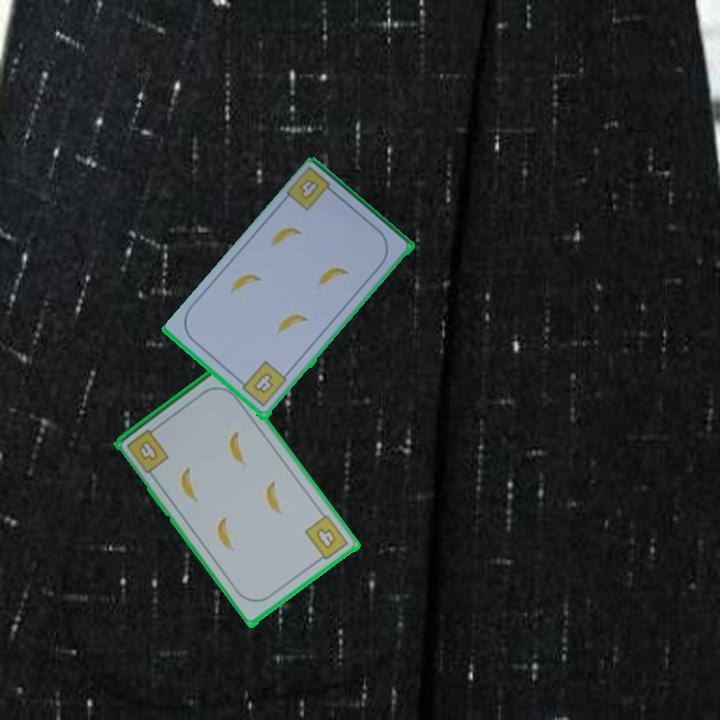4b: (235, 358, 290, 410), (284, 164, 340, 215), (302, 511, 352, 566), (123, 422, 172, 476)
